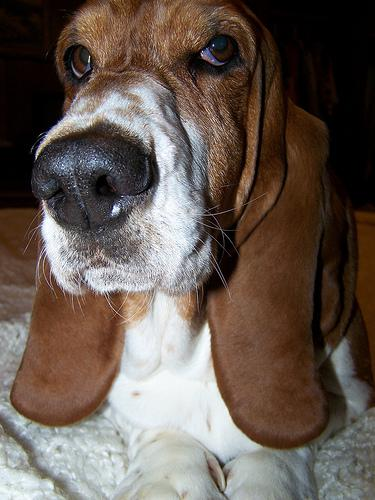dog-basset_hound: (8, 0, 328, 448)
